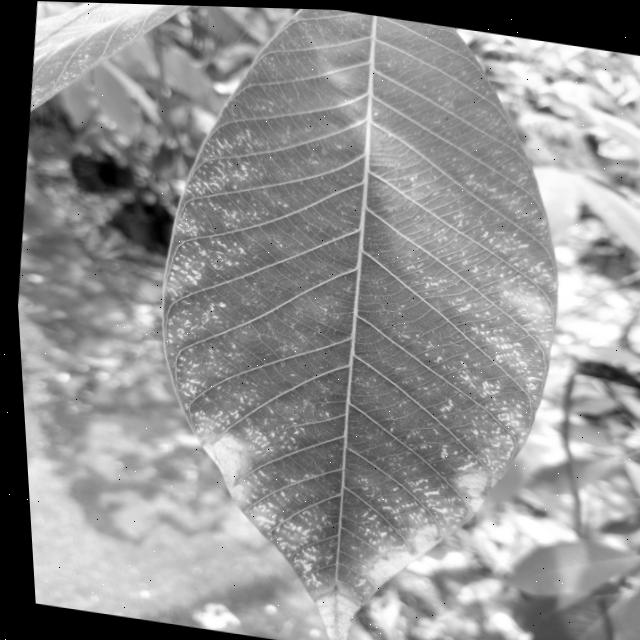Leaf-Blight: (355, 510, 439, 594), (188, 430, 248, 501), (299, 585, 357, 640), (447, 466, 496, 514)
